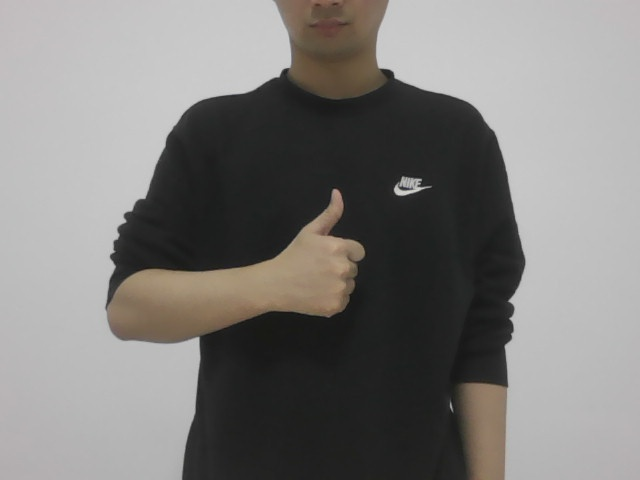good: (289, 187, 366, 316)
